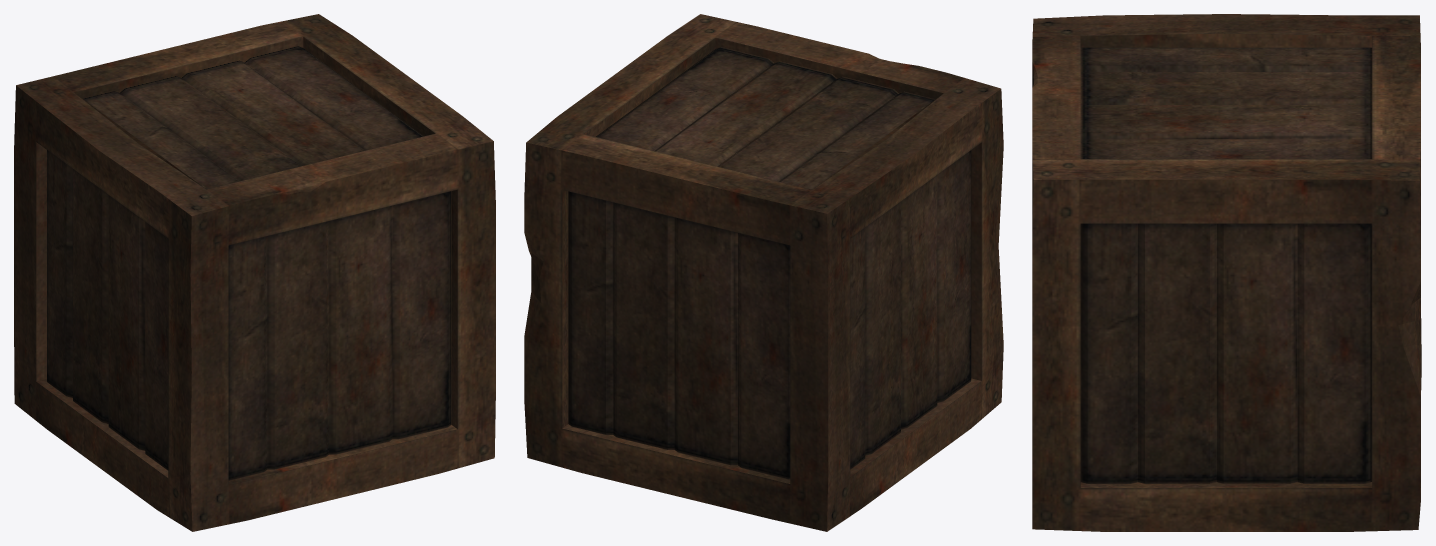
The model's file is wooden_crate_4.obj.
3 renders of one model, left to right at view 1: azimuth 30°, elevation 25°; view 2: azimuth 150°, elevation 25°; view 3: azimuth 270°, elevation 25°, orthographic. The views are drawn at different scales.
Visible parts, largest first — view 1: wooden_crate_4; view 2: wooden_crate_4; view 3: wooden_crate_4.
Part boxes in pixels (x1,y1,x2,y2): wooden_crate_4: (14,14,495,531); wooden_crate_4: (524,14,1003,531); wooden_crate_4: (1032,14,1421,531).
Size of the model in its own units: 1.09 by 1.08 by 1.08.
